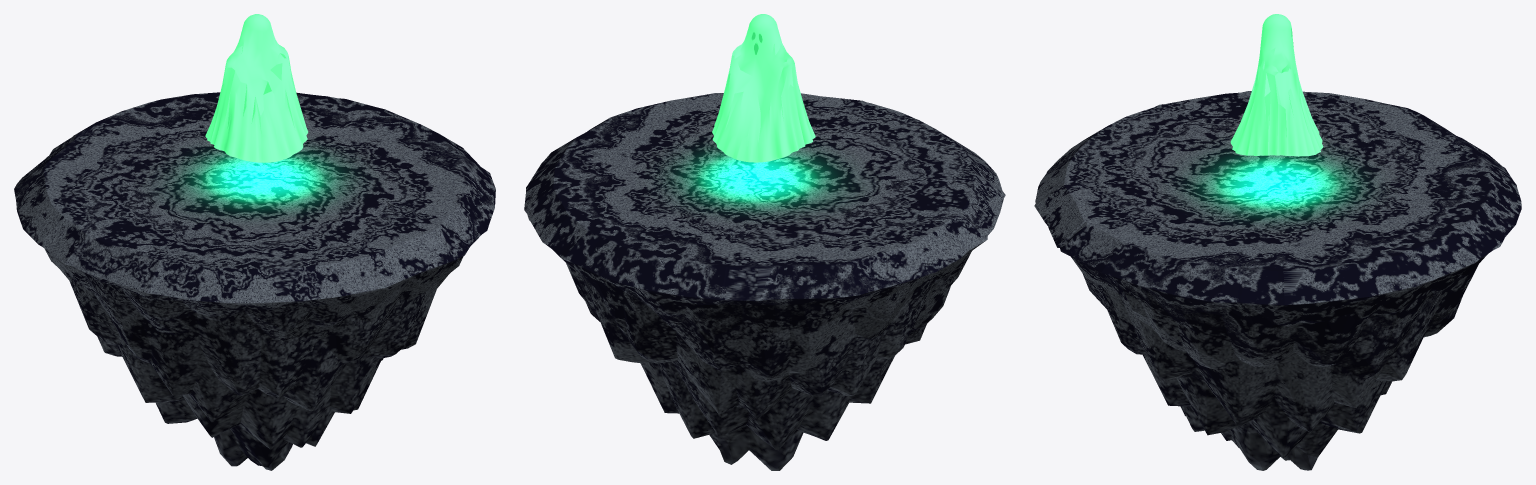
File: small_ghost_animated.glb
3 views of the same model, side by side, from view 1: azimuth 30°, elevation 25°; view 2: azimuth 150°, elevation 25°; view 3: azimuth 270°, elevation 25° (orthographic).
Parts seen in each view (by area): view 1: Rock, Ghost; view 2: Rock, Ghost; view 3: Rock, Ghost.
Boxes of the visible parts, bbox=[...] form: Rock: bbox=[14, 92, 495, 470]; Ghost: bbox=[205, 14, 308, 162]; Rock: bbox=[524, 93, 1005, 470]; Ghost: bbox=[712, 14, 815, 162]; Rock: bbox=[1034, 91, 1521, 470]; Ghost: bbox=[1230, 14, 1323, 156].
Size of what is drawn, in the model's own units: 9.93 by 10.19 by 9.96.
Materials: 2 (2 with a texture image).
